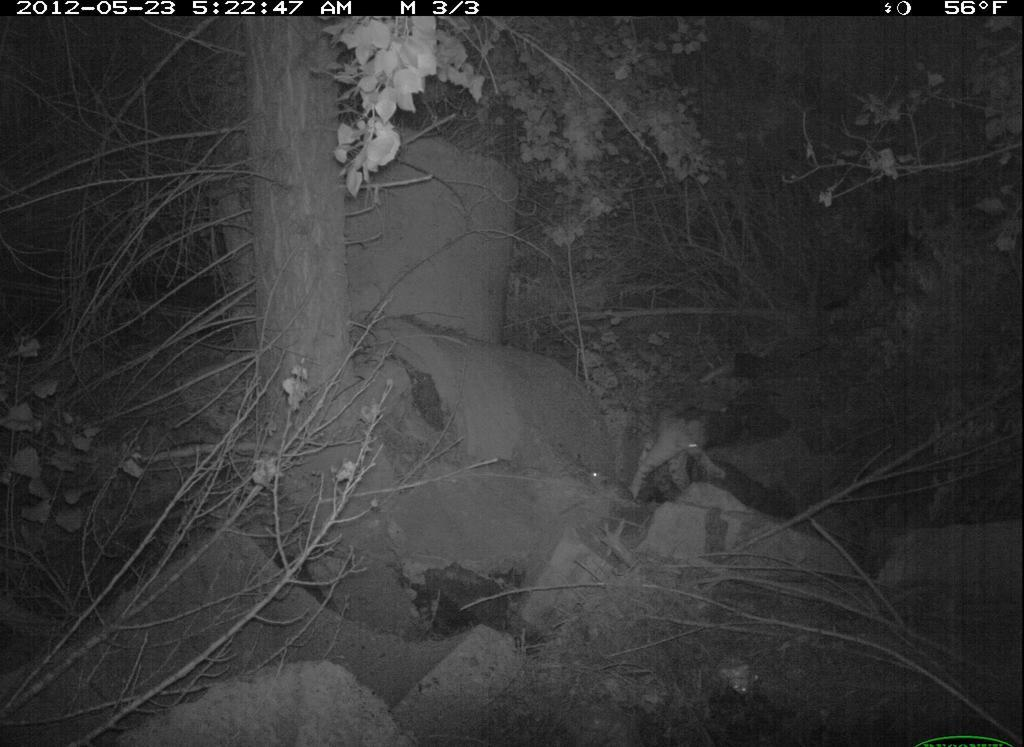bobcat: (630, 378, 754, 515)
